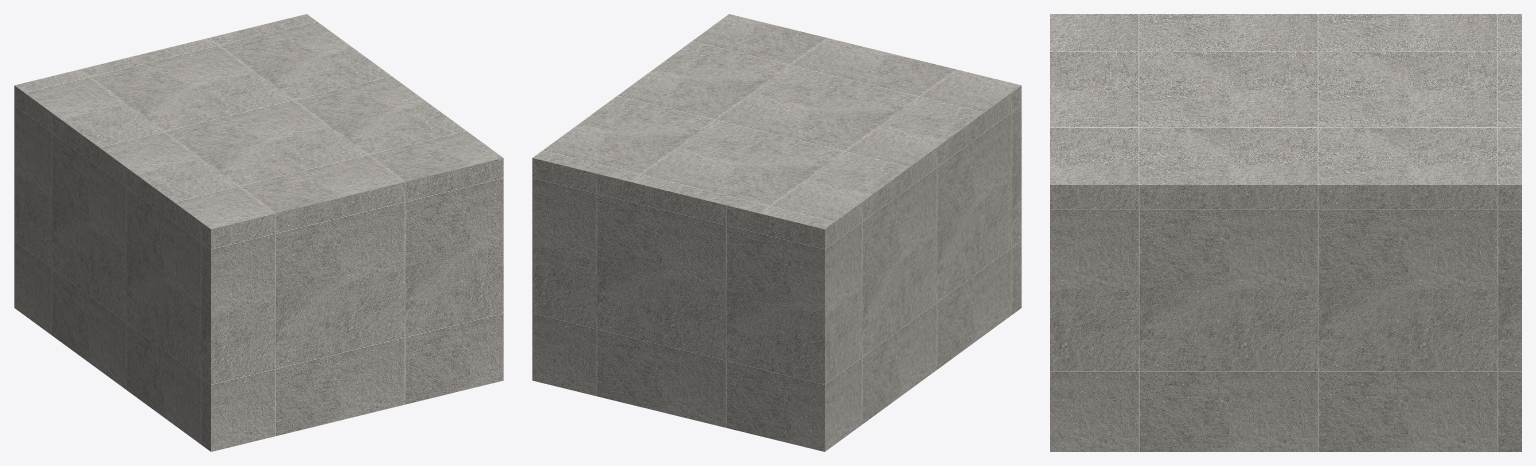
The picture shows the model from 3 angles, left to right: view 1: azimuth 30°, elevation 25°; view 2: azimuth 150°, elevation 25°; view 3: azimuth 270°, elevation 25°; orthographic projection. The views are drawn at different scales.
Parts seen in each view (by area): view 1: Box001; view 2: Box001; view 3: Box001.
Part boxes in pixels (x1=…): Box001: x1=14, y1=14, x2=503, y2=451; Box001: x1=532, y1=14, x2=1021, y2=451; Box001: x1=1050, y1=14, x2=1521, y2=451.
Bounding box in the file's own units: 2.26 × 1.64 × 2.63.
Materials: 1 (1 with a texture image).
